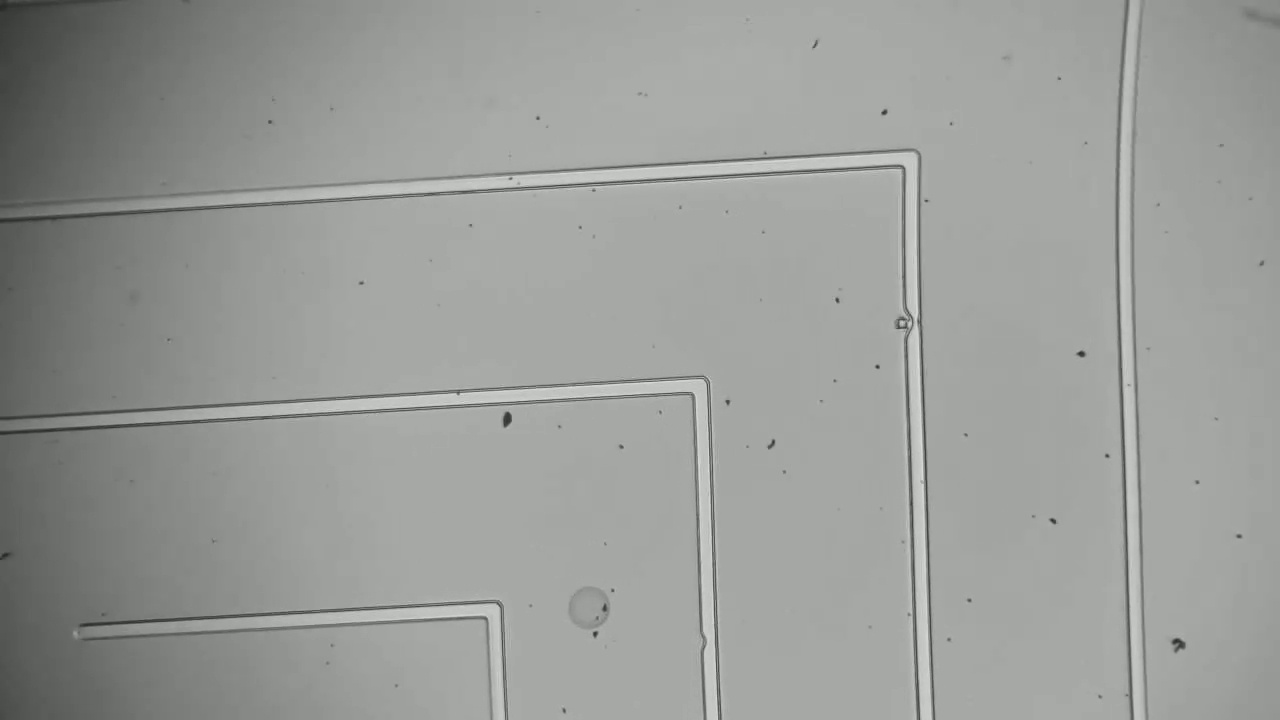edge_bite: (891, 295, 929, 347), (692, 619, 723, 658)
